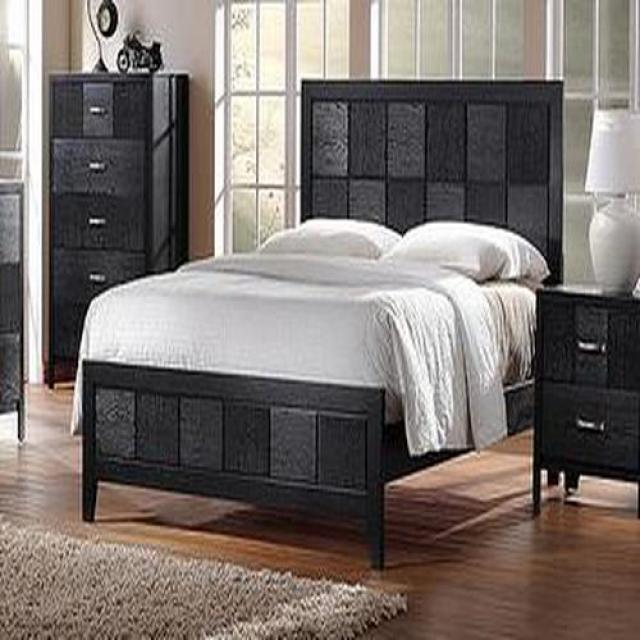bed: (72, 81, 564, 572)
